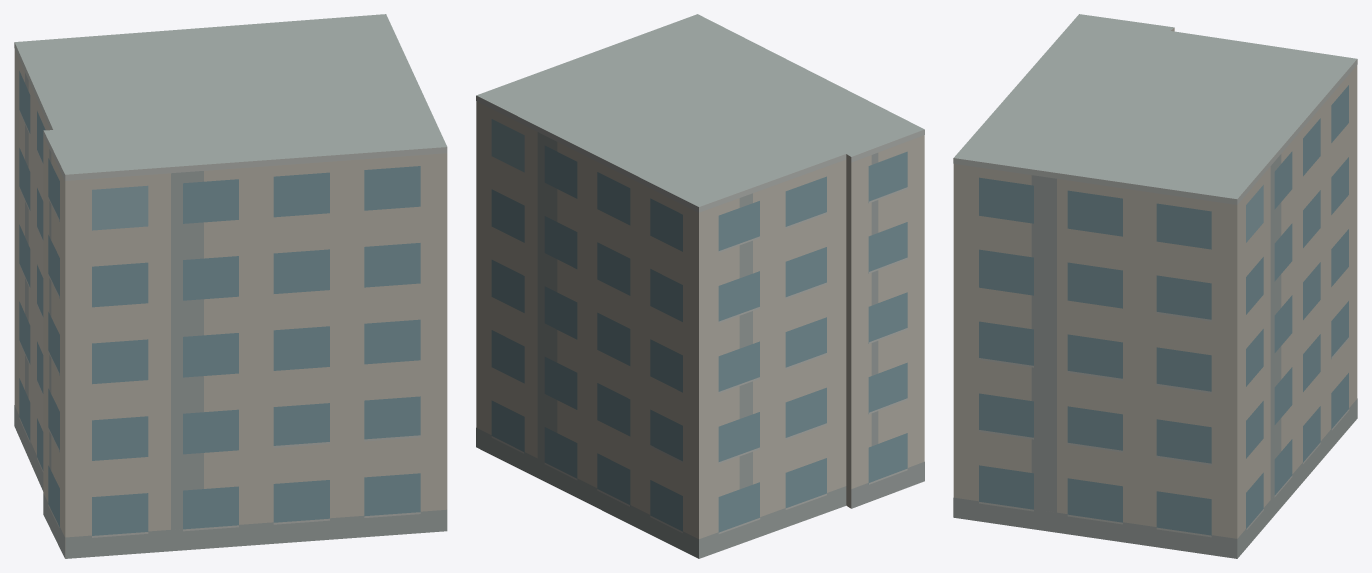
Rendered from survey-upis-32685480.glb.
The picture shows the model from 3 angles, left to right: view 1: azimuth 30°, elevation 25°; view 2: azimuth 150°, elevation 25°; view 3: azimuth 270°, elevation 25°; orthographic projection. The views are drawn at different scales.
Parts seen in each view (by area): view 1: survey-upis-32685480.tmp; view 2: survey-upis-32685480.tmp; view 3: survey-upis-32685480.tmp.
Boxes of the visible parts, x1,y1,x2,y2 form: survey-upis-32685480.tmp: [14, 14, 447, 558]; survey-upis-32685480.tmp: [476, 14, 924, 558]; survey-upis-32685480.tmp: [953, 14, 1357, 558].
Size of the model in its own units: 16.85 by 15.25 by 15.53.
